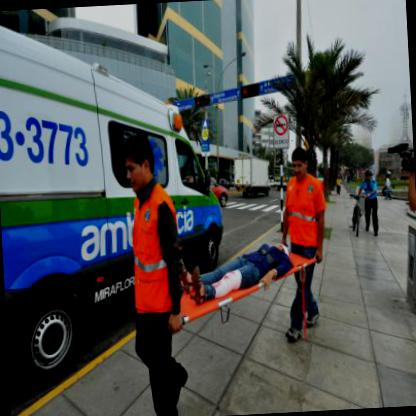truck: (0, 4, 236, 390)
